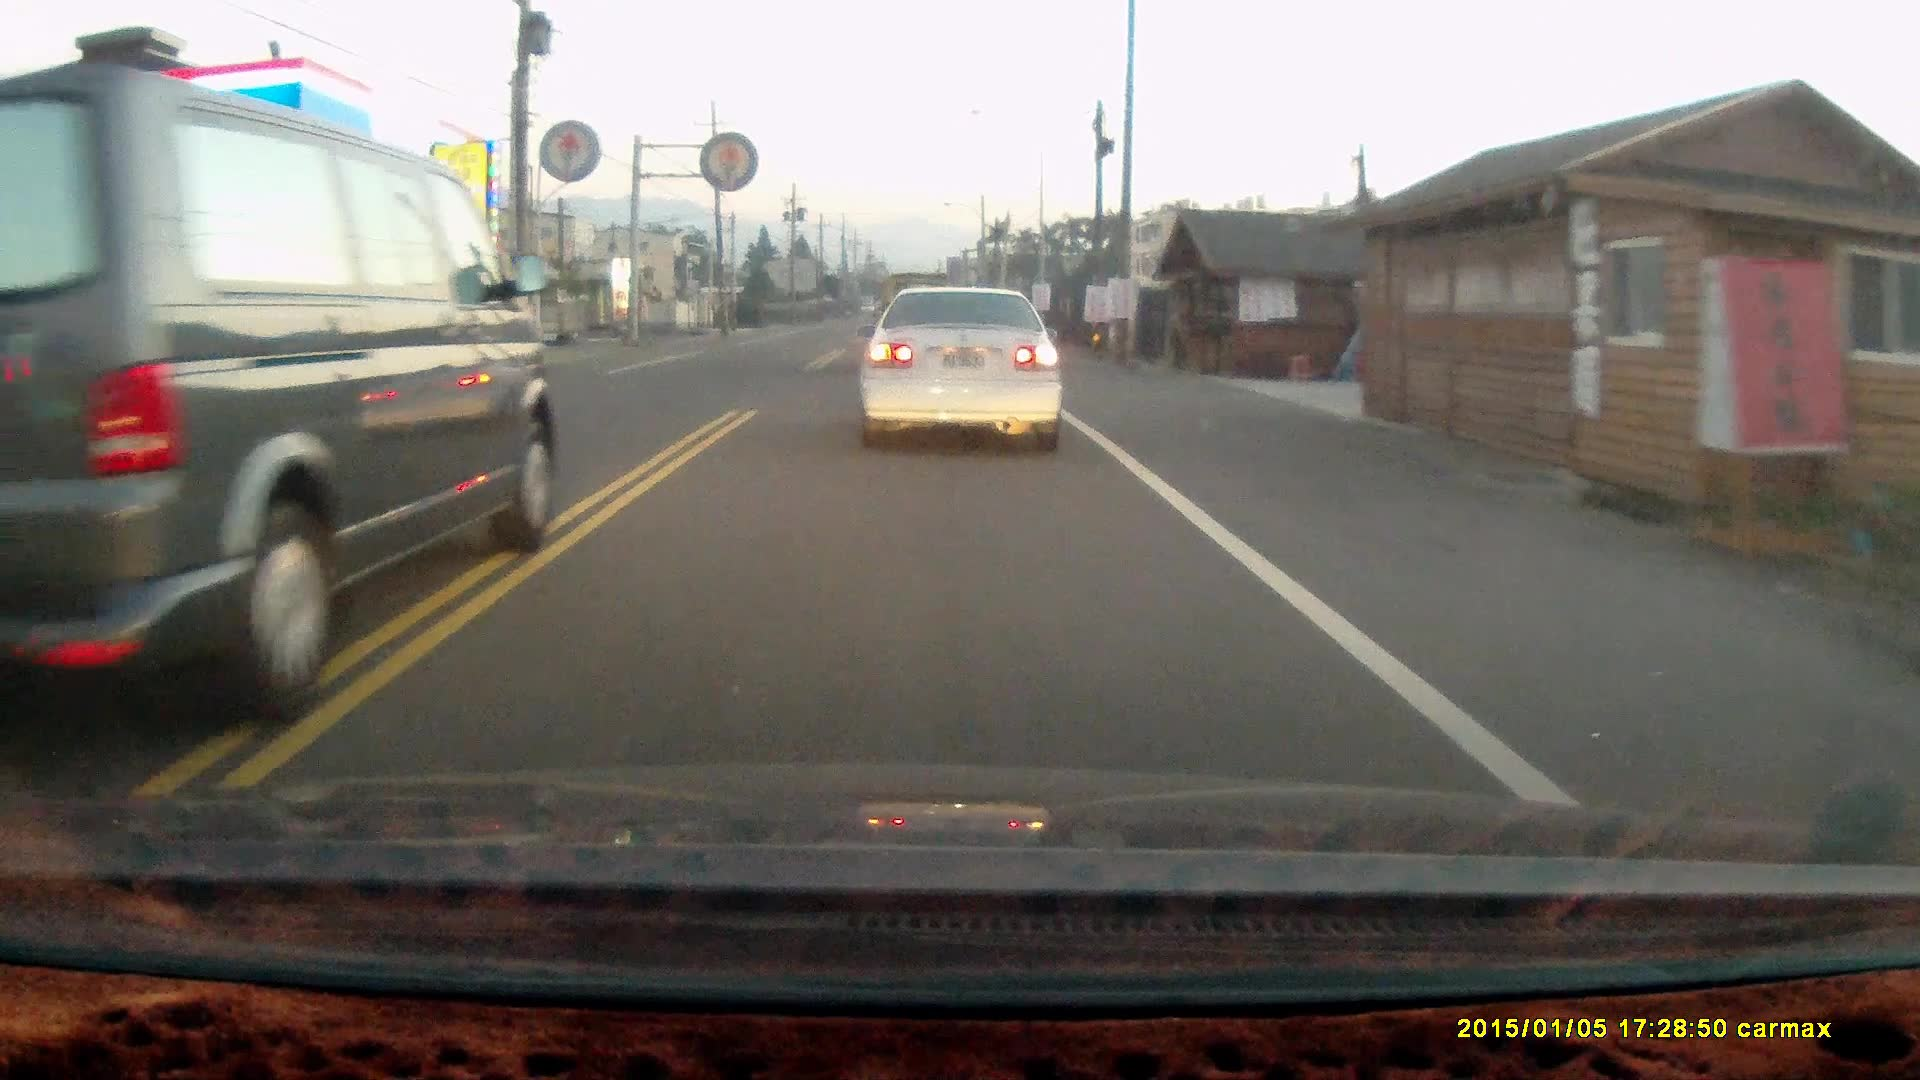vehicle: (1, 76, 560, 712), (858, 280, 1068, 456)
